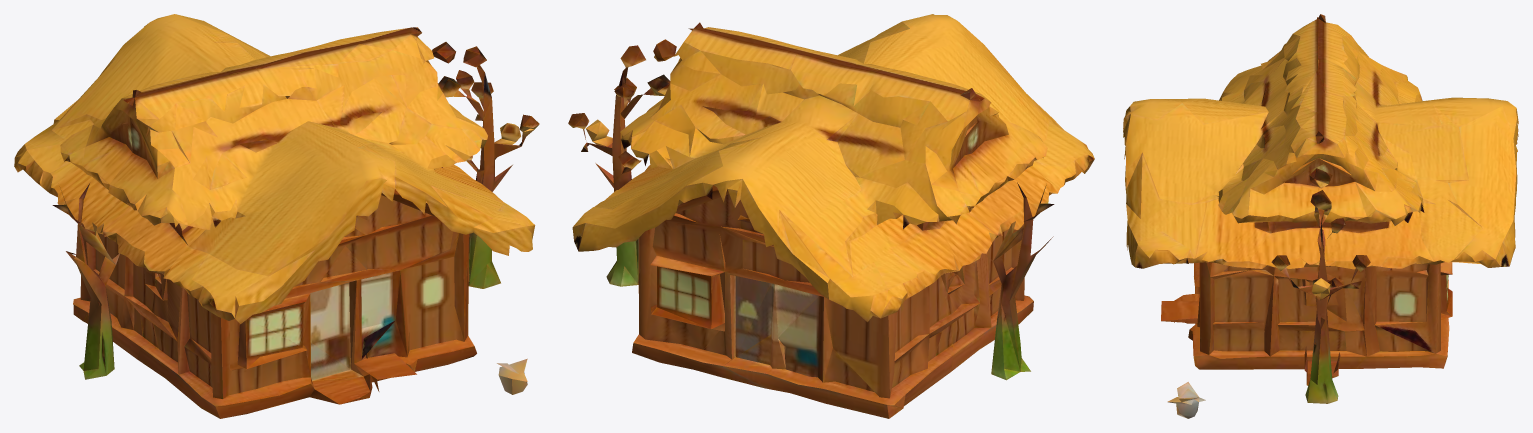
The model's file is minka.glb.
3 views of the same model, side by side, from view 1: azimuth 30°, elevation 25°; view 2: azimuth 150°, elevation 25°; view 3: azimuth 270°, elevation 25° (orthographic). The views are drawn at different scales.
Size of the model in its own units: 1.84 by 1.21 by 1.56.
Materials: 1 (1 with a texture image).
